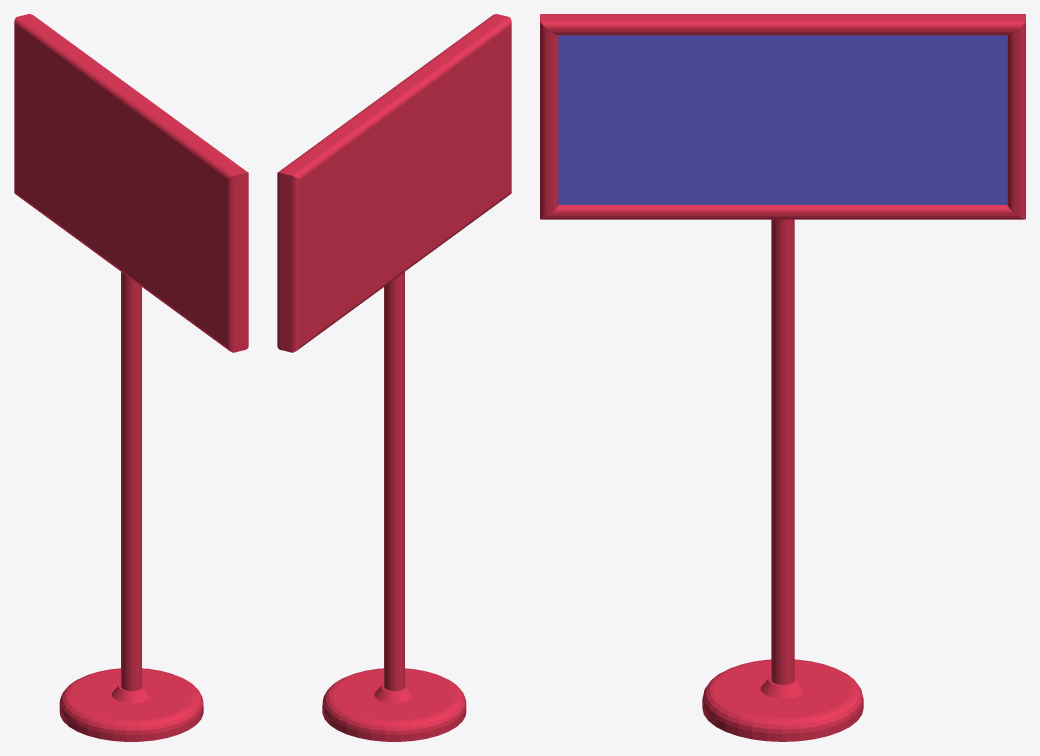
Rendered from CARTELCIUDAD.fbx.
3 renders of one model, left to right at view 1: azimuth 30°, elevation 25°; view 2: azimuth 150°, elevation 25°; view 3: azimuth 270°, elevation 25°, orthographic. The views are drawn at different scales.
Visible parts, largest first — view 1: Cylinder; view 2: Cylinder; view 3: Cylinder.001, Cylinder.
Part boxes in pixels (x1,y1,x2,y2): Cylinder: (14,14,248,741); Cylinder: (277,14,511,741); Cylinder.001: (558,35,1007,204); Cylinder: (540,14,1025,741).
Size of the model in its own units: 148 by 697 by 445.
